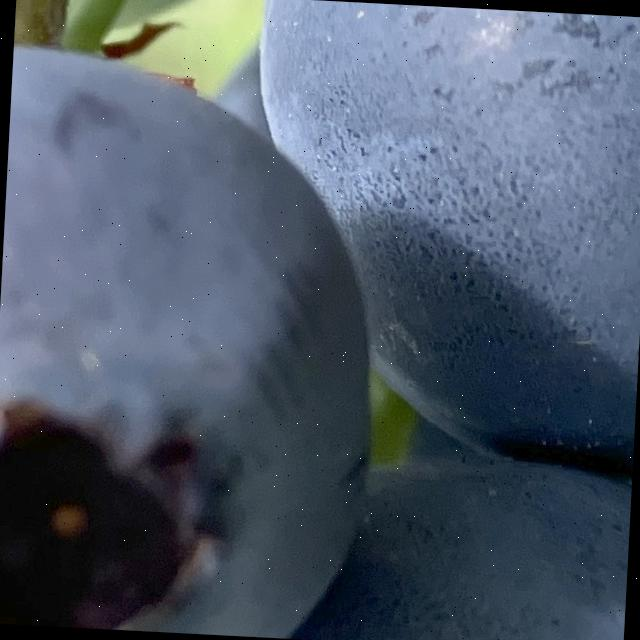Blueberries: (0, 34, 393, 640), (233, 0, 640, 476), (64, 431, 633, 640)
